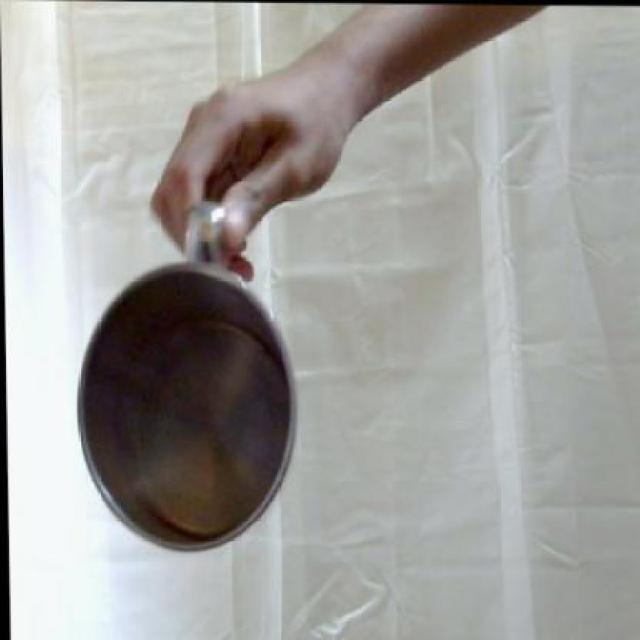Metal: (75, 259, 301, 554)
